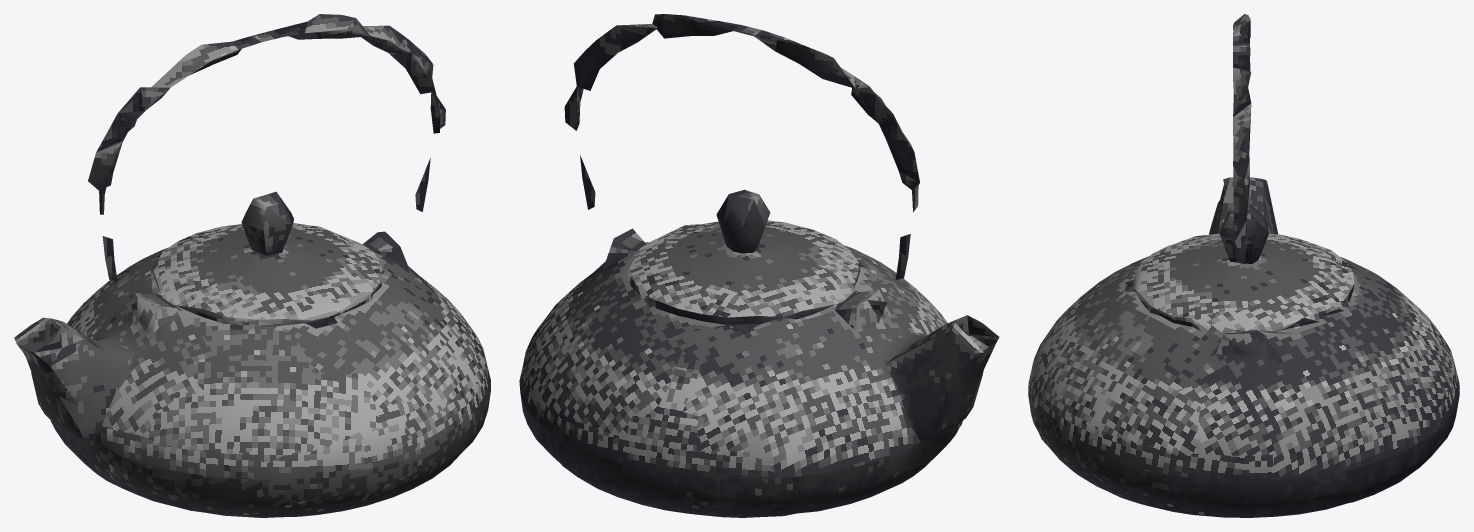
File: teapot_jp.glb
3 renders of one model, left to right at view 1: azimuth 30°, elevation 25°; view 2: azimuth 150°, elevation 25°; view 3: azimuth 270°, elevation 25°, orthographic. The views are drawn at different scales.
Parts seen in each view (by area): view 1: mesh; view 2: mesh; view 3: mesh.
Part boxes in pixels (left/top/right/bottom): mesh: left=14, top=14, right=490, bottom=517; mesh: left=519, top=14, right=999, bottom=517; mesh: left=1028, top=14, right=1459, bottom=517.
Size of the model in its own units: 0.1371 by 0.13 by 0.1211.
Materials: 1 (1 with a texture image).
